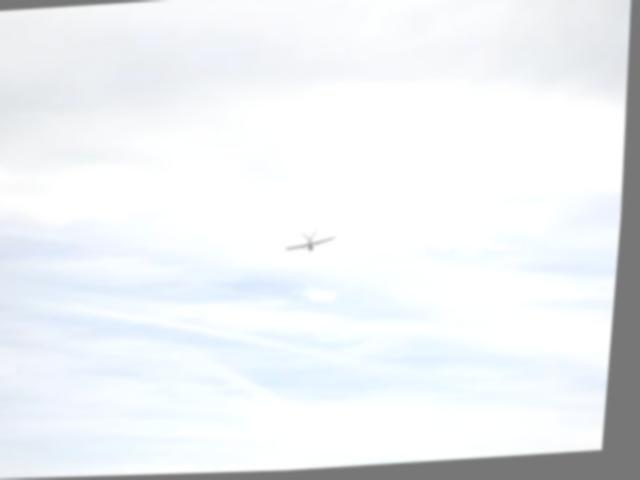uav: (283, 221, 349, 263)
